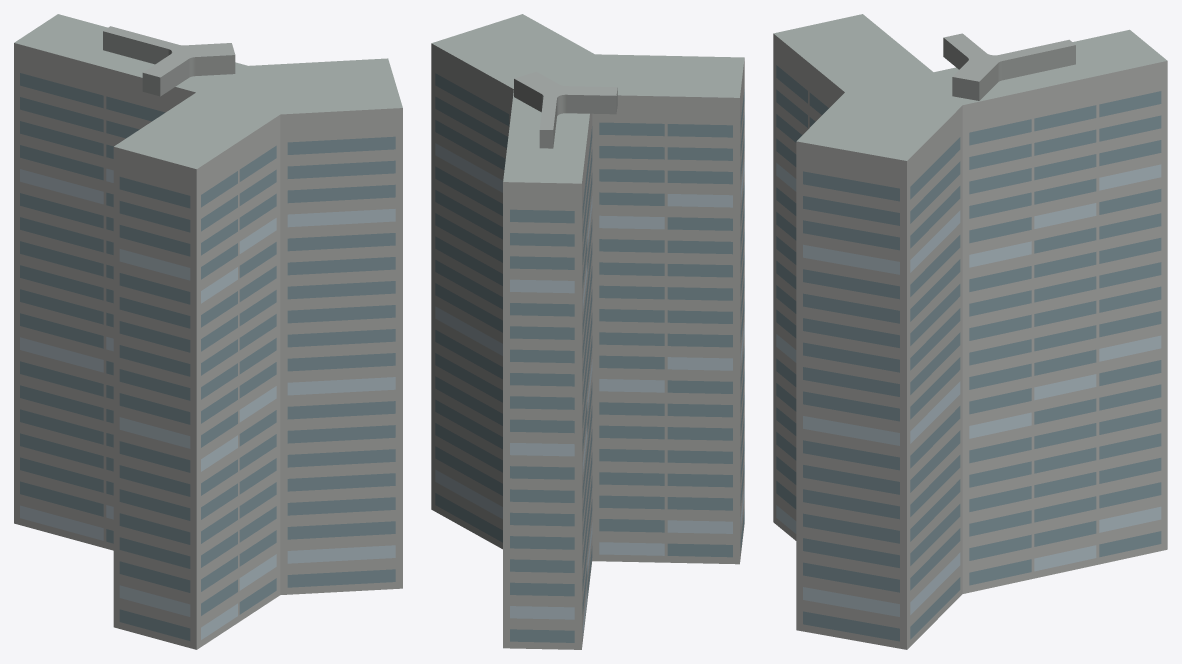
The model's file is apt-a10023695.glb.
3 views of the same model, side by side, from view 1: azimuth 30°, elevation 25°; view 2: azimuth 150°, elevation 25°; view 3: azimuth 270°, elevation 25° (orthographic). The views are drawn at different scales.
Visible parts, largest first — view 1: apt-a10023695; view 2: apt-a10023695; view 3: apt-a10023695.
Boxes of the visible parts, x1,y1,x2,y2 form: apt-a10023695: (14,14,402,649); apt-a10023695: (431,14,744,649); apt-a10023695: (773,14,1167,649).
Bounding box in the file's own units: 39.09 × 63 × 44.29.
